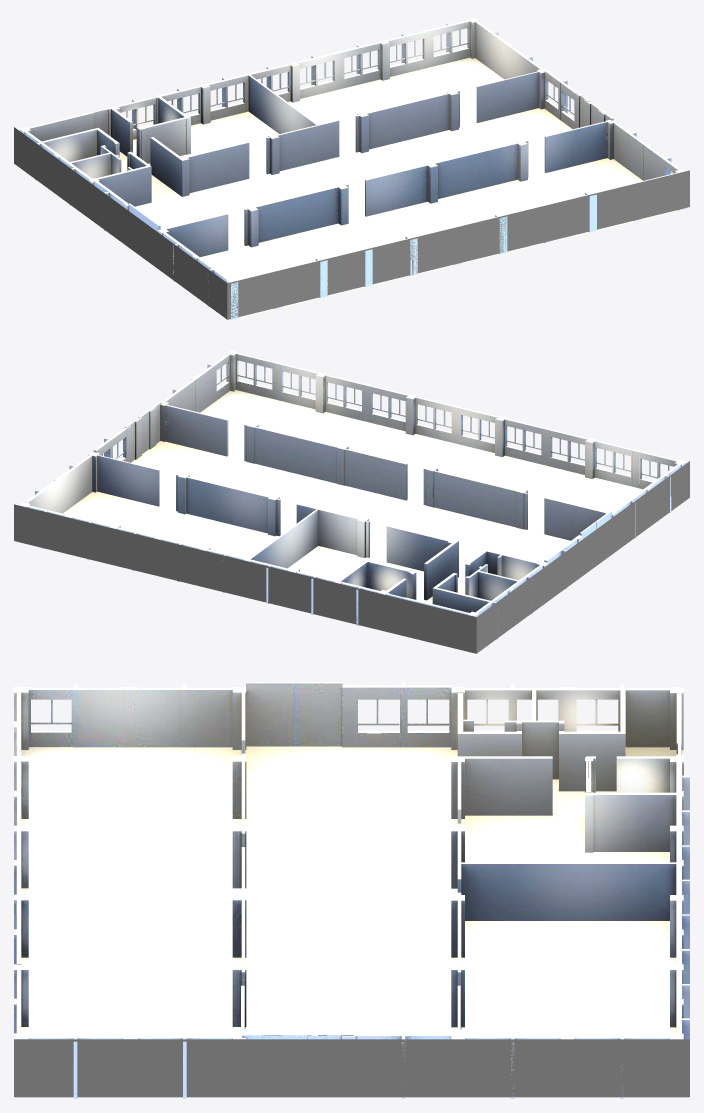
3 views of the same model, one above another, from view 1: azimuth 30°, elevation 25°; view 2: azimuth 150°, elevation 25°; view 3: azimuth 270°, elevation 25° (orthographic). The views are drawn at different scales.
Visible parts, largest first — view 1: hb_1floor_room01_3, hb_1floor_wlm_1, hb_1floor_room04_6, hb_1floor_zhongting_7, hb_1floor_room03_5, hb_1floor_room02_4, hb_1floor_guodao_2; view 2: hb_1floor_room01_3, hb_1floor_wlm_1, hb_1floor_zhongting_7, hb_1floor_room04_6, hb_1floor_room03_5, hb_1floor_room02_4, hb_1floor_guodao_2; view 3: hb_1floor_room01_3, hb_1floor_zhongting_7, hb_1floor_room04_6, hb_1floor_wlm_1, hb_1floor_room03_5, hb_1floor_room02_4, hb_1floor_guodao_2.
Boxes of the visible parts, left/top/right/bottom form: hb_1floor_room01_3: left=157, top=119, right=686, bottom=319; hb_1floor_wlm_1: left=14, top=127, right=689, bottom=319; hb_1floor_room04_6: left=247, top=18, right=546, bottom=161; hb_1floor_zhongting_7: left=93, top=70, right=613, bottom=249; hb_1floor_room03_5: left=108, top=73, right=318, bottom=196; hb_1floor_room02_4: left=35, top=127, right=151, bottom=206; hb_1floor_guodao_2: left=19, top=108, right=178, bottom=201; hb_1floor_room01_3: left=160, top=350, right=686, bottom=540; hb_1floor_wlm_1: left=14, top=461, right=689, bottom=653; hb_1floor_zhongting_7: left=93, top=401, right=611, bottom=588; hb_1floor_room04_6: left=19, top=451, right=317, bottom=592; hb_1floor_room03_5: left=247, top=508, right=458, bottom=625; hb_1floor_room02_4: left=432, top=549, right=548, bottom=639; hb_1floor_guodao_2: left=388, top=579, right=492, bottom=616; hb_1floor_room01_3: left=14, top=684, right=246, bottom=1098; hb_1floor_zhongting_7: left=242, top=682, right=457, bottom=1098; hb_1floor_room04_6: left=451, top=863, right=689, bottom=1098; hb_1floor_wlm_1: left=14, top=1039, right=689, bottom=1097; hb_1floor_room03_5: left=451, top=754, right=689, bottom=888; hb_1floor_room02_4: left=451, top=684, right=625, bottom=791; hb_1floor_guodao_2: left=552, top=687, right=683, bottom=814.
Size of the model in its own units: 4.7 by 0.3905 by 3.76.
7 materials, 6 textured.
